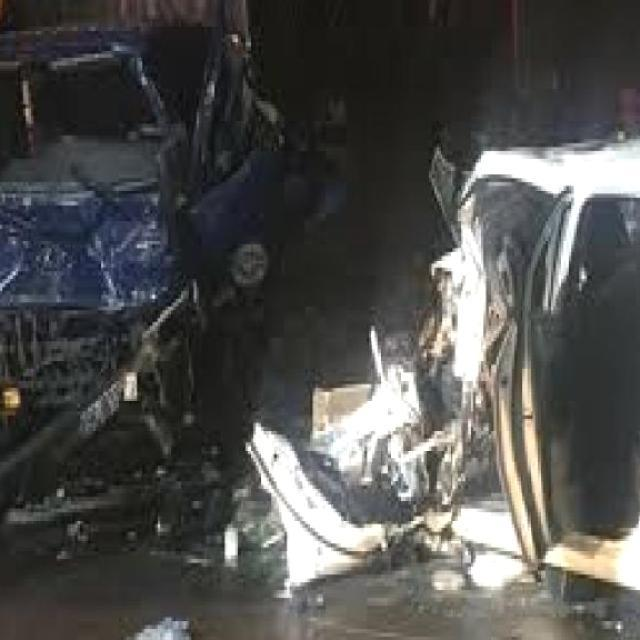accident: (250, 105, 640, 613), (1, 9, 227, 478)
